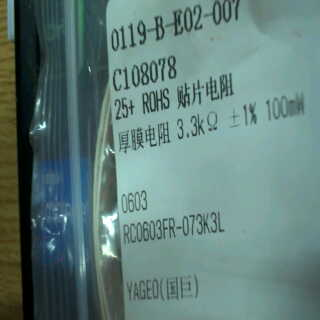3.3kO: (173, 110, 223, 148)
